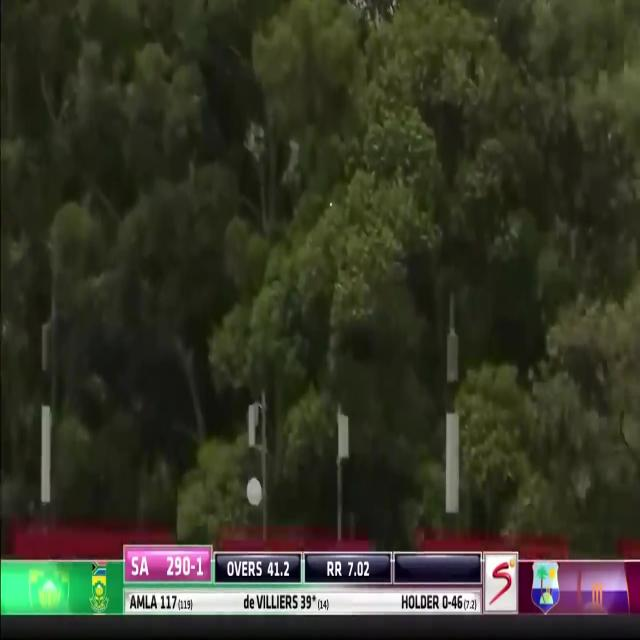Batsman: (245, 471, 265, 514)
